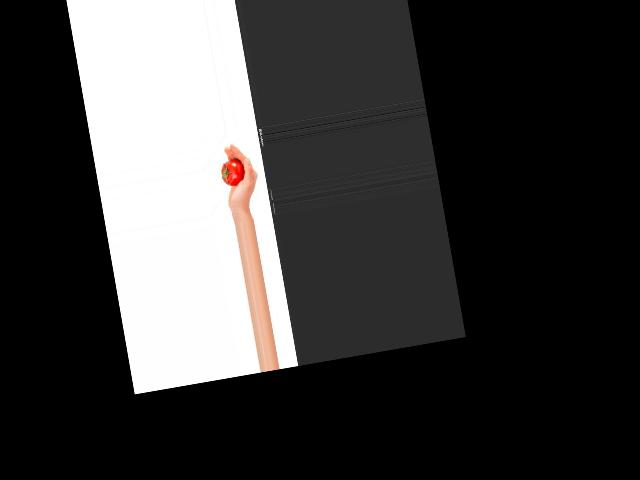tomato: (220, 159, 246, 188)
